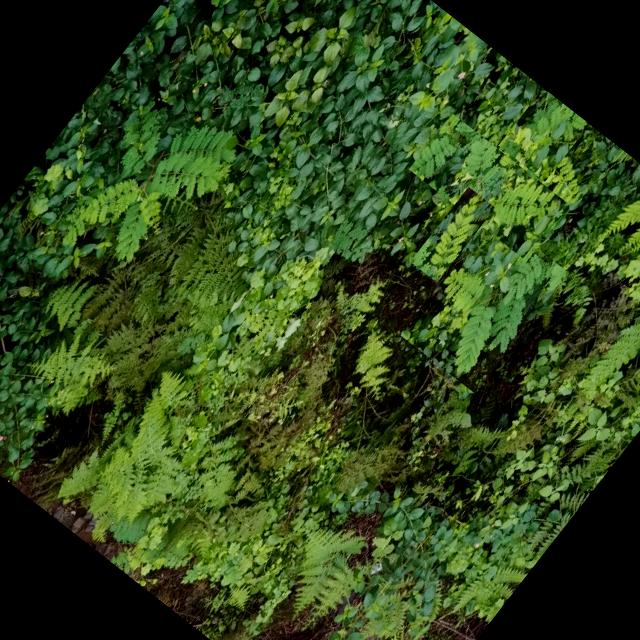Mysore-Thorn-Weed: (36, 70, 256, 304), (400, 214, 568, 393), (408, 114, 566, 258), (498, 88, 590, 182), (410, 188, 496, 284)
